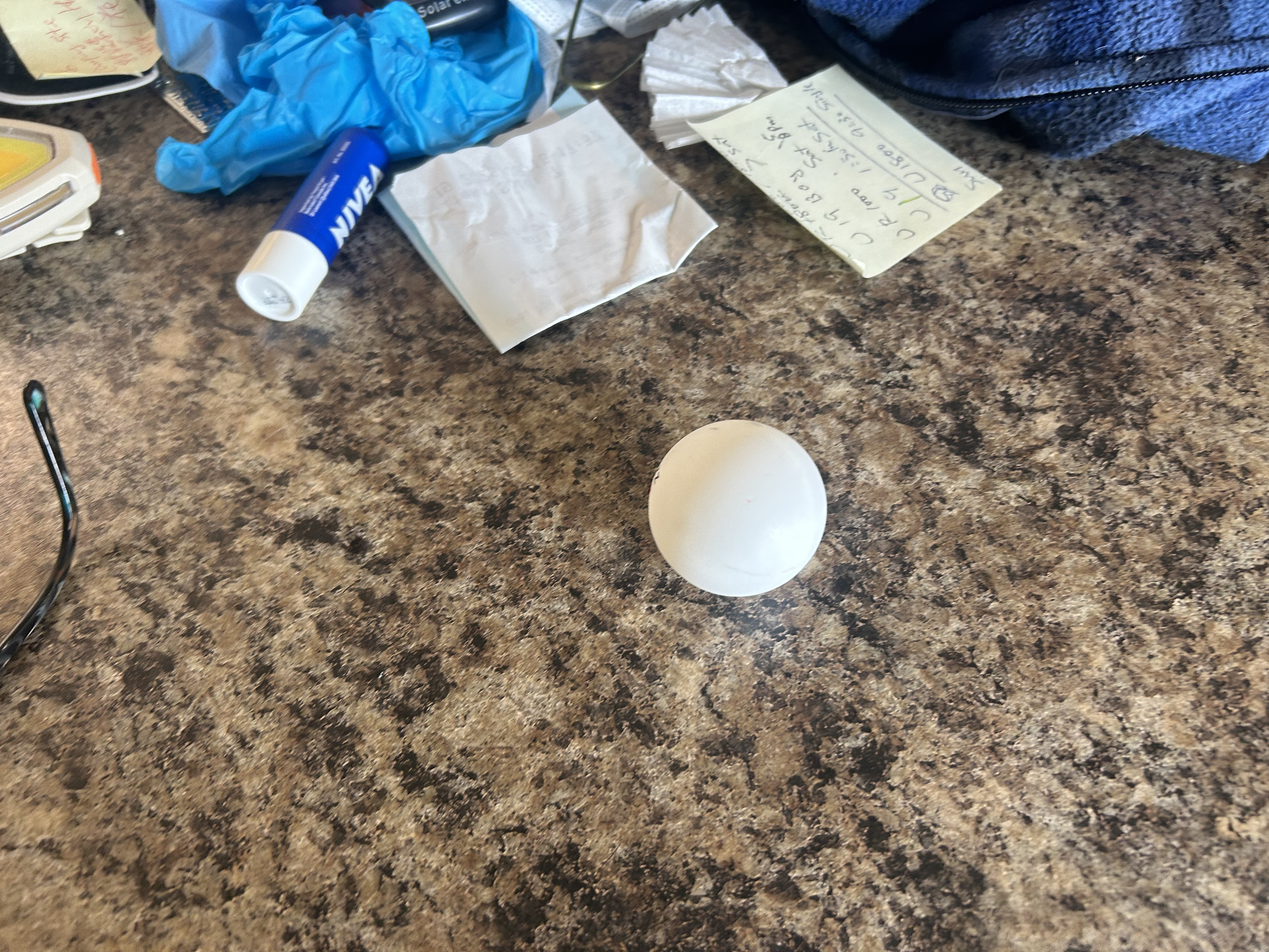Ball: (647, 425, 838, 590)
